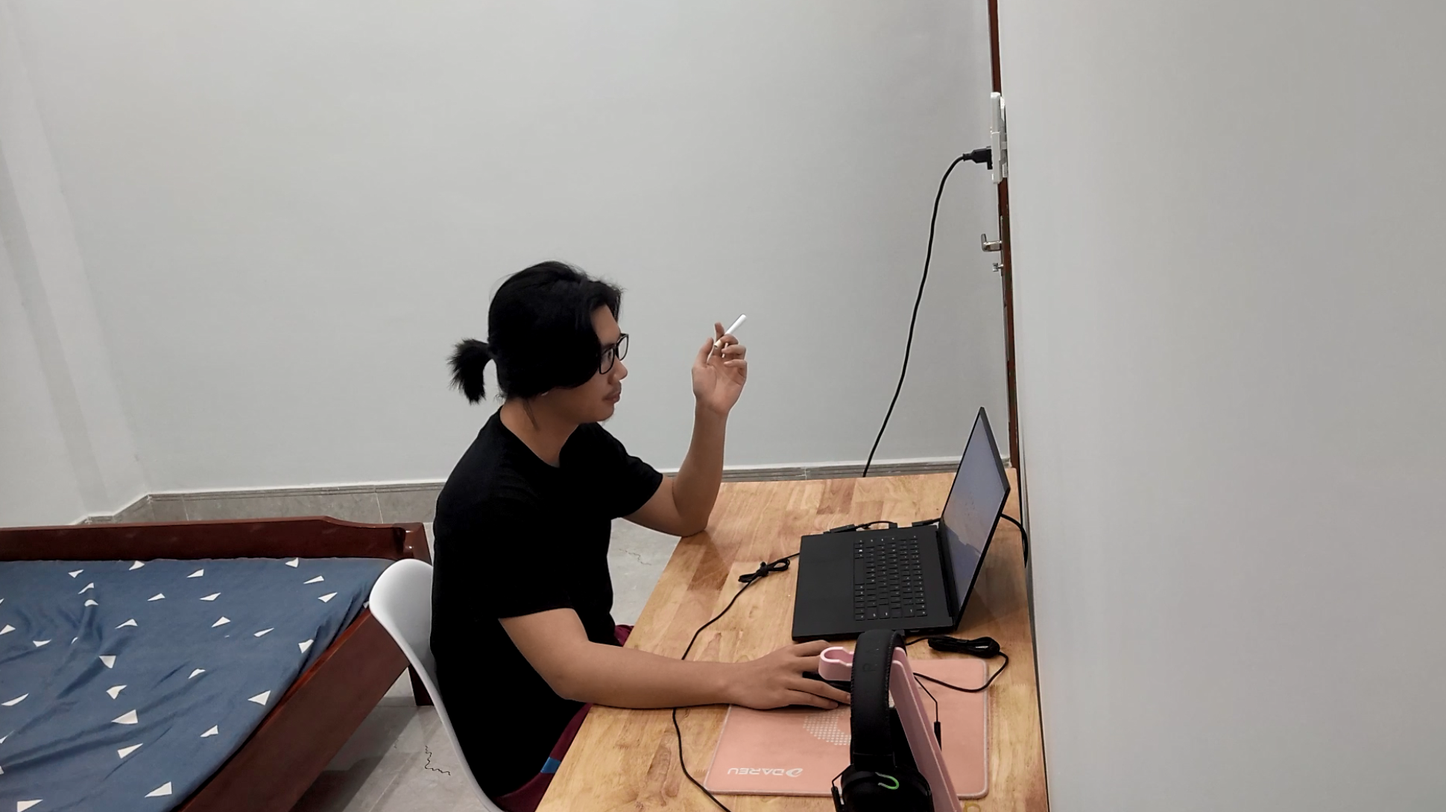cigarette: (713, 305, 752, 349)
person: (414, 230, 755, 807)
